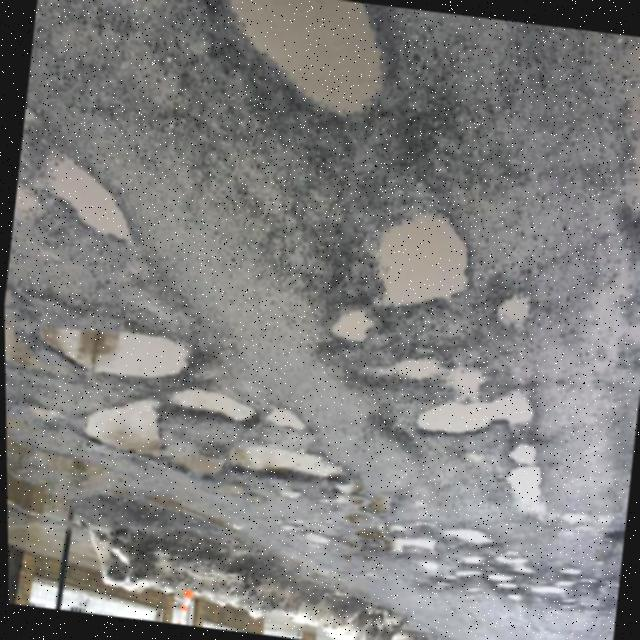Pothole: (186, 0, 390, 135), (32, 304, 208, 406), (365, 198, 483, 324), (409, 371, 538, 463), (47, 149, 144, 262), (221, 434, 344, 492), (78, 397, 170, 469), (172, 380, 263, 431), (493, 455, 550, 529), (325, 304, 375, 356), (161, 443, 220, 487), (492, 290, 535, 342), (444, 516, 499, 554)
